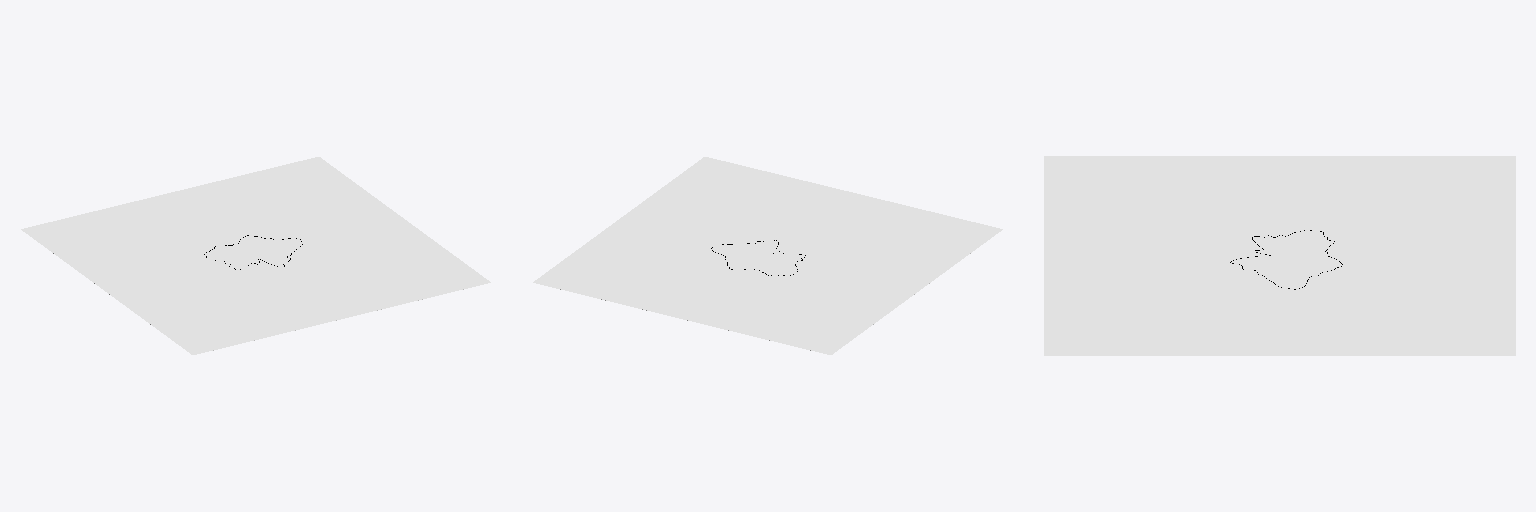
The robot description file, URDF, robot "world":
<robot name="world">
 
	<link name="plane">

   		<inertial>
		    <origin rpy="0 0 0" xyz="0 0 0" />
            <mass value="0.0" />
            <inertia ixx="0.0" ixy="0.0" ixz="0.0" iyy="0.0" iyz="0.0" izz="0.0" />
        </inertial>

    	<visual>
      		<geometry>
        		<box size="10.0 10.0 0.001" />
      		</geometry>

			<material name="plane_color">
        		<color rgba="1 1 1 1" />
      		</material>
       	
			<origin rpy="0 0 0" xyz="0 0 0" />
		</visual>

		<contact>
		 	<lateral_friction value="1" />
			<stiffness value="300000" />
          	<damping value="1000" />
  		</contact>

  		<collision>
			<geometry>
        		<box size="10.0 10.0 0.01" />
      		</geometry>
          <origin rpy="0 0 0" xyz="0 0 0" />
        </collision>
  
	</link>


	<link name="line">

   		<inertial>
		    <origin rpy="0 0 0" xyz="0 0 0" />
            <mass value="0.0" />
            <inertia ixx="0.0" ixy="0.0" ixz="0.0" iyy="0.0" iyz="0.0" izz="0.0" />
        </inertial>

    	<visual>
      		<geometry>
				<mesh filename="./models_tracks/17.obj" scale="1 1 1" />
      		</geometry>
       		
			<material name="line_color">
        		<color rgba="0 0 0 1" />
      		</material>
	    
			<origin rpy="0 0 0" xyz="0 0 0.001" />
		</visual>
    
	</link>


  	<joint name="plane_line" type="fixed">
		<parent link="plane" />
		<child link="line" />
        <origin rpy="0 0 0" xyz="0.0 0.0 0.0" />
 	</joint>

</robot>

--- Facts derived from the render (not from the file) ---
Views: 3 orthographic renders of the robot side by side, from view 1: azimuth 30°, elevation 25°; view 2: azimuth 150°, elevation 25°; view 3: azimuth 270°, elevation 25°.
Robot: world — 2 links, 1 joints (1 fixed); root link plane; default pose: all joints at 0.
Visible links, largest first — view 1: plane; view 2: plane; view 3: plane.
Link boxes in pixels (bbox=[...]): plane: bbox=[21, 157, 490, 354]; plane: bbox=[533, 157, 1002, 354]; plane: bbox=[1044, 156, 1515, 355].
Size in the robot's own frame: 10 by 10 by 0.0015 metres.
1 mesh visuals loaded from 1 distinct referenced files (1 OBJ).
